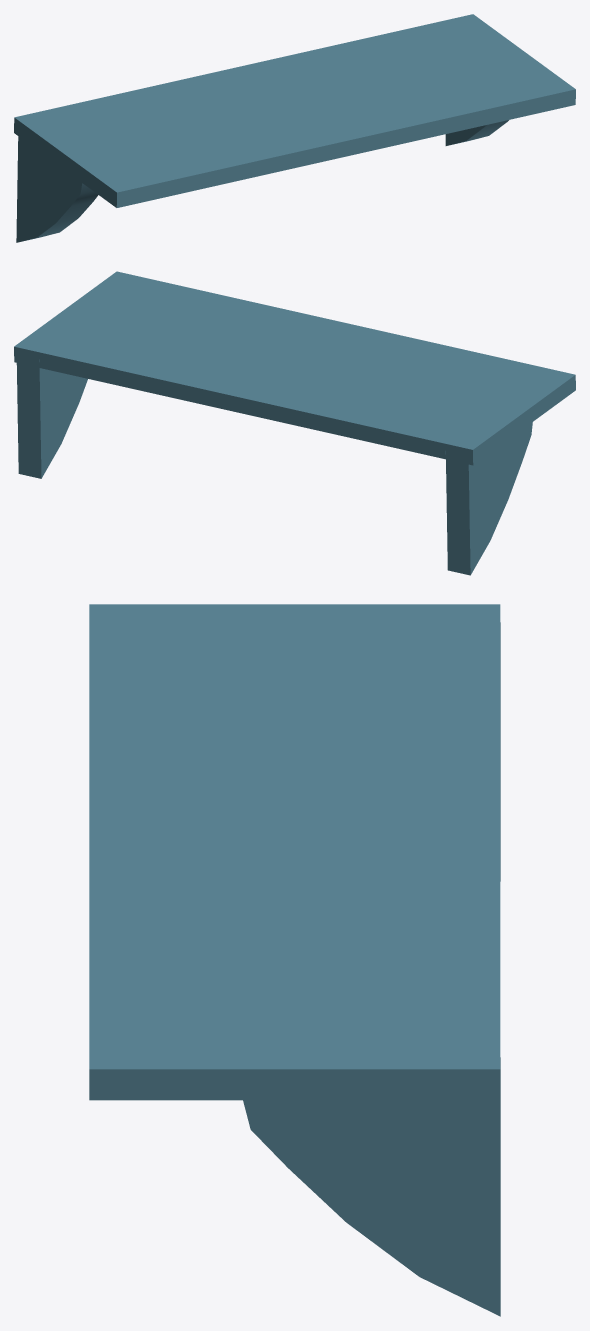
Rendered from TaPoGaShelves.fbx.
The picture shows the model from 3 angles, top to bottom: view 1: azimuth 30°, elevation 25°; view 2: azimuth 150°, elevation 25°; view 3: azimuth 270°, elevation 25°; orthographic projection. The views are drawn at different scales.
Parts seen in each view (by area): view 1: pCube2; view 2: pCube2; view 3: pCube2.
Part boxes in pixels (<box>): pCube2: <box>14,14,575,242</box>; pCube2: <box>14,271,575,575</box>; pCube2: <box>89,604,500,1316</box>.
Size of the model in its own units: 4.03 by 1.13 by 1.56.
